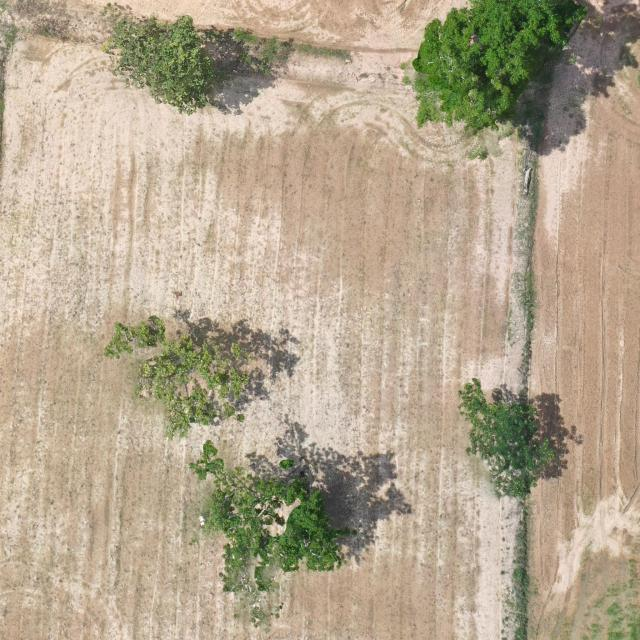Tree: (188, 438, 358, 629), (412, 0, 593, 130), (104, 313, 256, 442), (100, 2, 215, 117), (456, 376, 557, 501)
